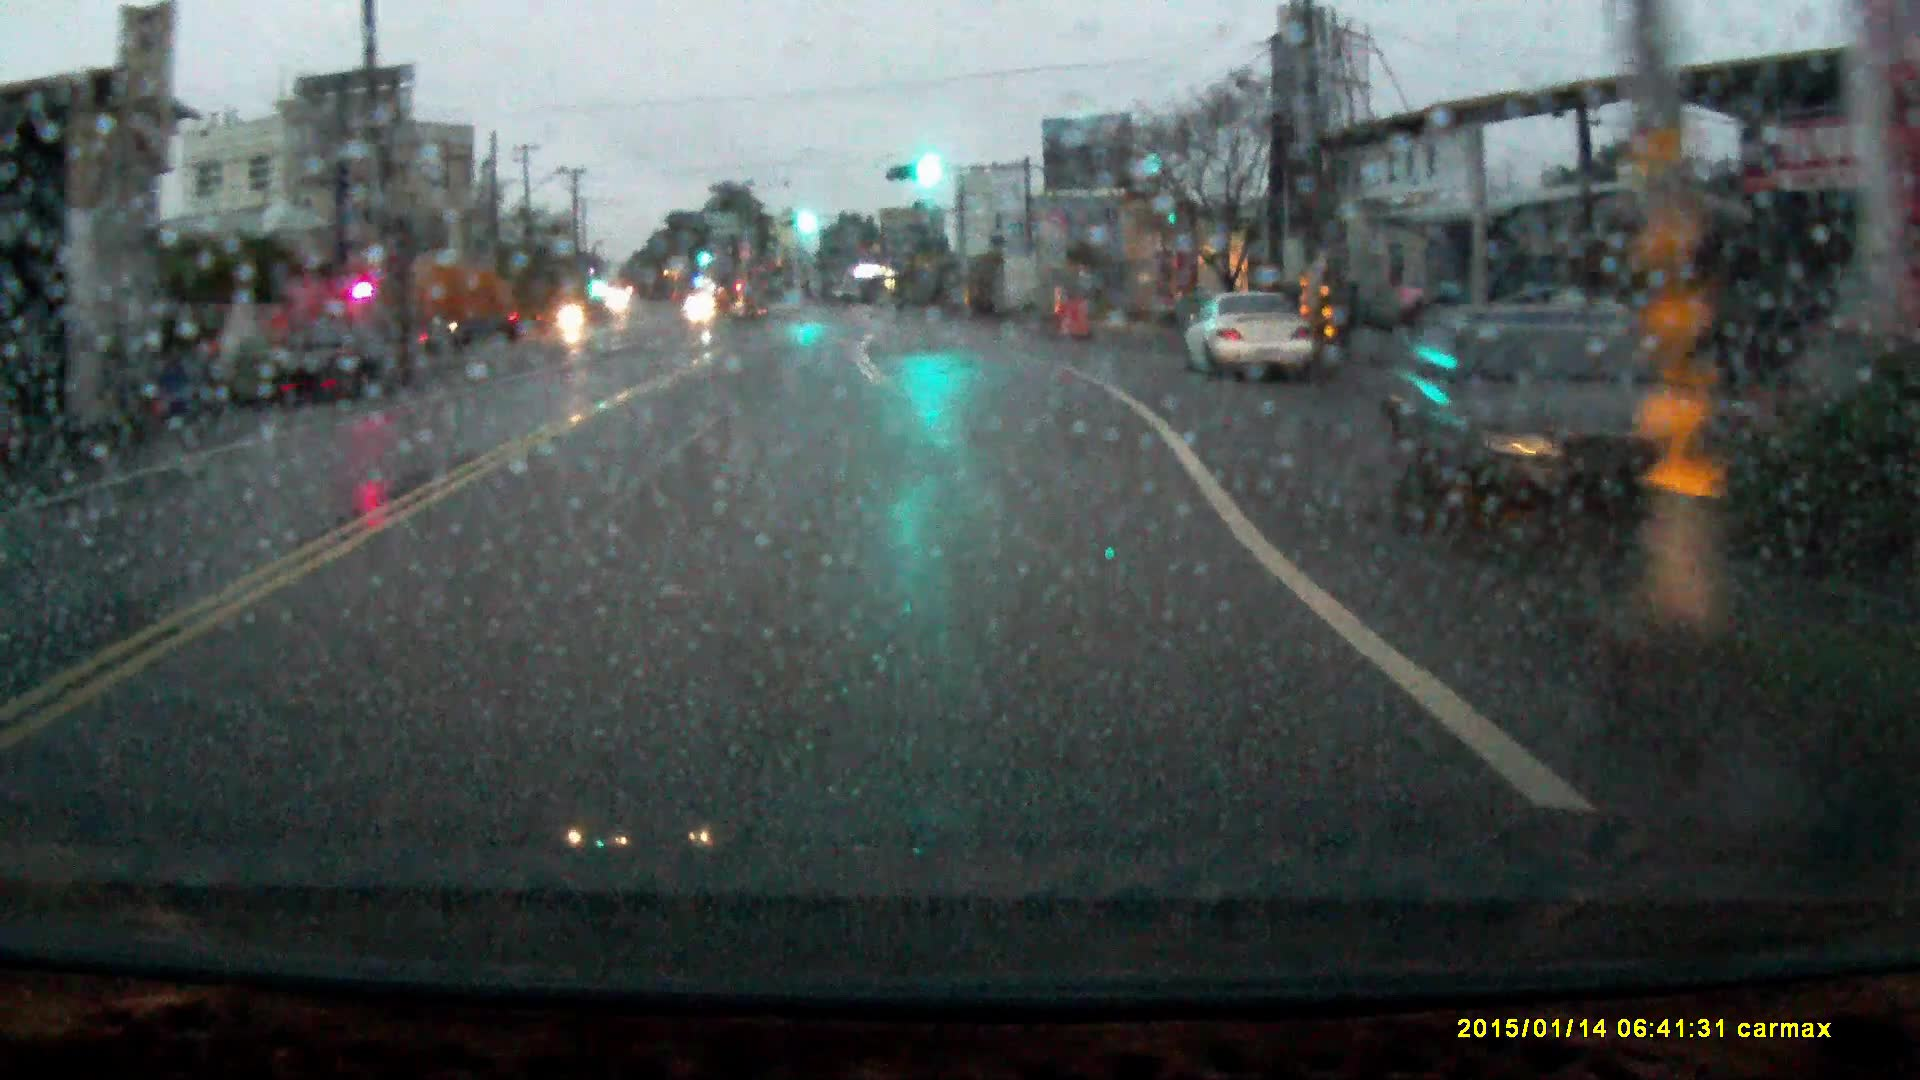rider: (555, 287, 589, 347)
vehicle: (1381, 318, 1711, 533), (1180, 288, 1311, 381), (270, 320, 405, 398), (403, 262, 531, 344), (687, 295, 715, 318)
